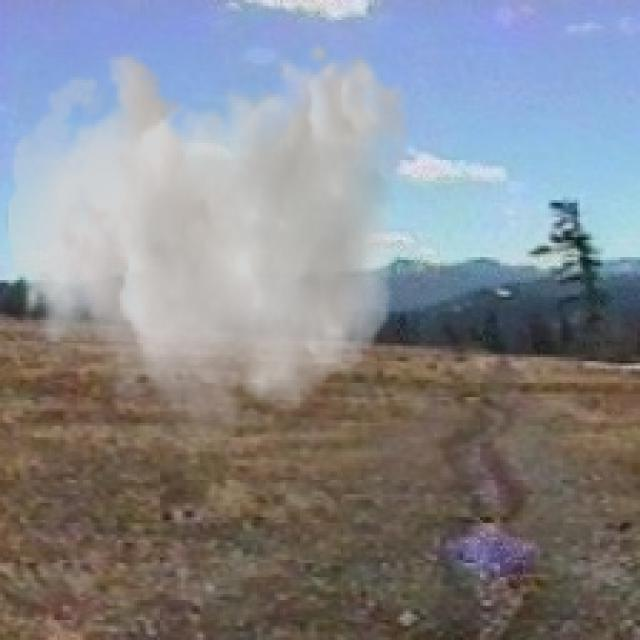Smoke: (6, 37, 412, 463)
